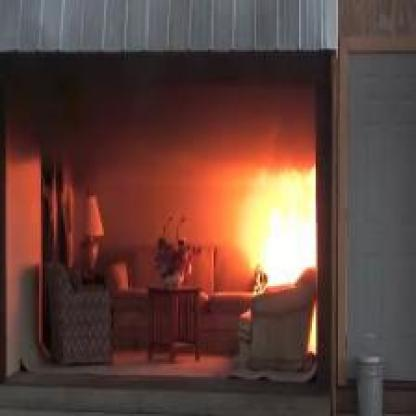fire: (235, 164, 315, 287), (306, 302, 315, 354)
